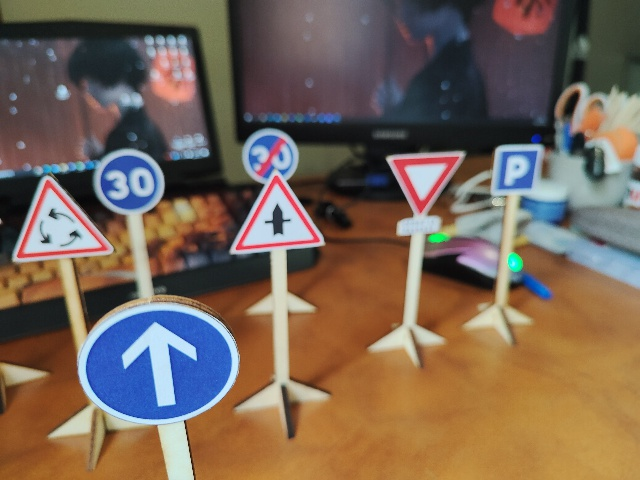P: (490, 141, 547, 198)
ban: (244, 129, 302, 180)
cycle: (13, 178, 105, 259)
first: (228, 177, 328, 254)
second: (385, 150, 462, 236)
straight: (80, 301, 237, 425)
thirty: (95, 151, 163, 215)
